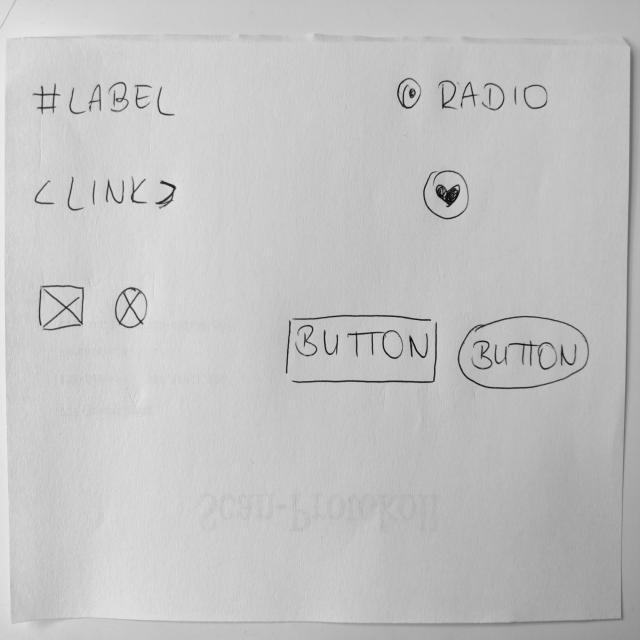button: (282, 312, 440, 386), (457, 314, 591, 392)
icon-button: (421, 167, 472, 221)
image: (38, 282, 86, 334), (114, 286, 148, 332)
label: (29, 80, 178, 120)
link: (32, 172, 178, 214)
radio: (395, 76, 551, 113)
